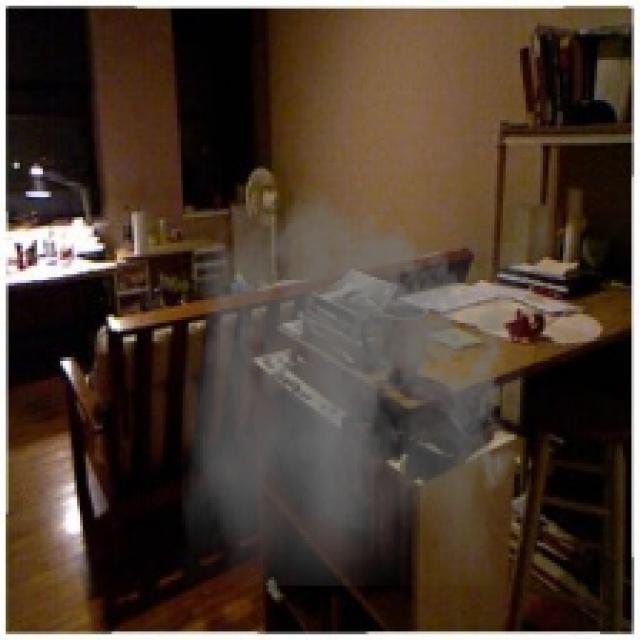smoke: (180, 174, 526, 586)
